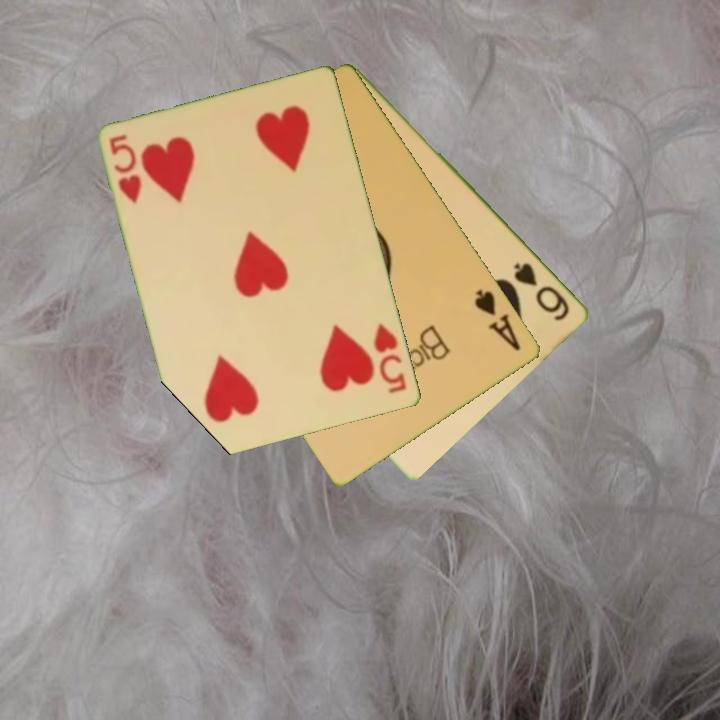5h: (371, 320, 410, 397), (106, 131, 145, 207)
6s: (510, 258, 573, 324)
As: (471, 285, 524, 354)
